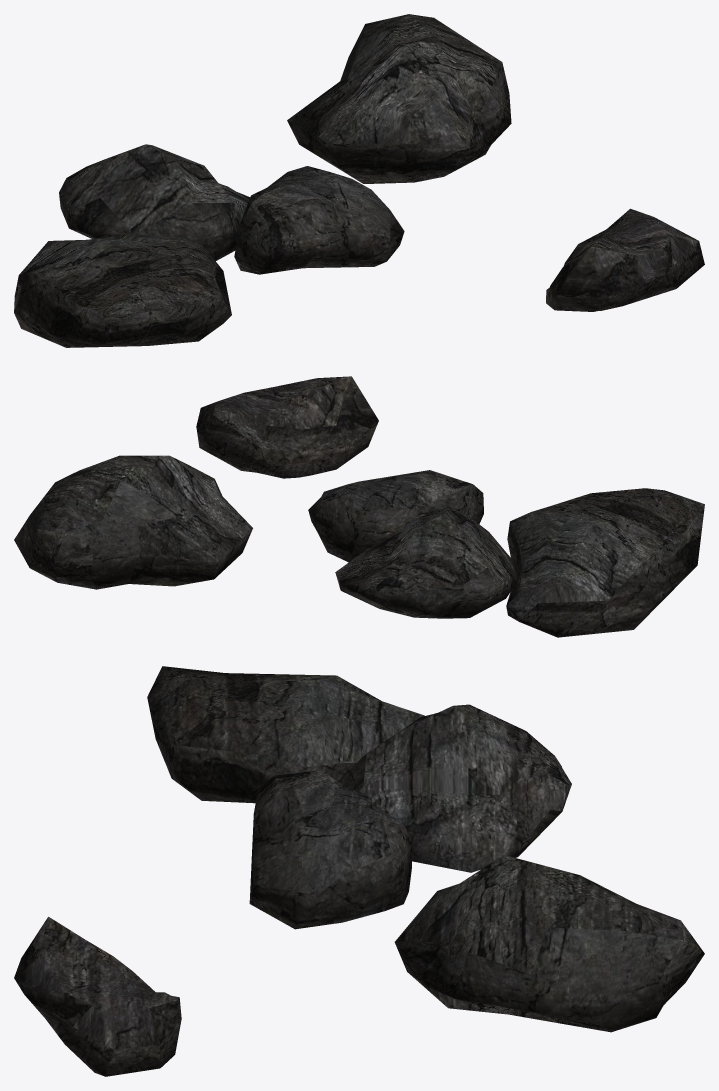
The model's file is Rocks 5.glb.
3 renders of one model, top to bottom at view 1: azimuth 30°, elevation 25°; view 2: azimuth 150°, elevation 25°; view 3: azimuth 270°, elevation 25°, orthographic. The views are drawn at different scales.
Visible parts, largest first — view 1: rocks_5_low; view 2: rocks_5_low; view 3: rocks_5_low.
Part boxes in pixels (<box>): rocks_5_low: <box>14,14,704,347</box>; rocks_5_low: <box>14,376,704,637</box>; rocks_5_low: <box>14,666,704,1076</box>.
Size of the model in its own units: 0.4926 by 0.1159 by 0.4222.
1 material, 1 textured.
